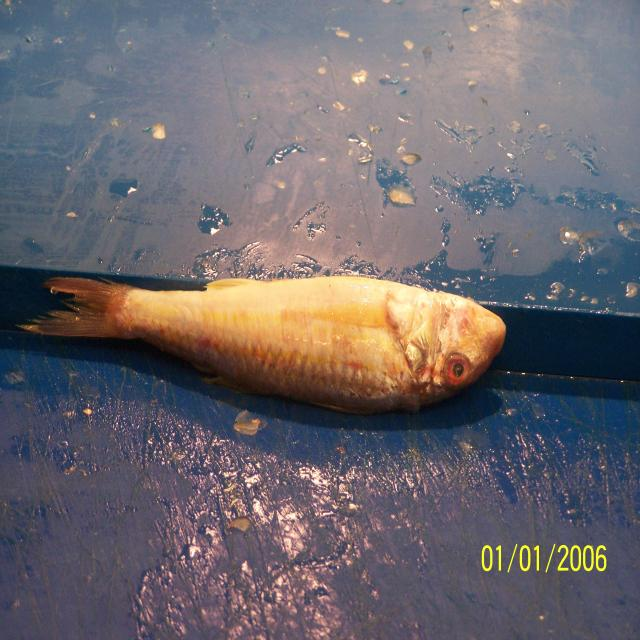Striped-Red-Mullet-tekir-: (14, 274, 508, 418)
